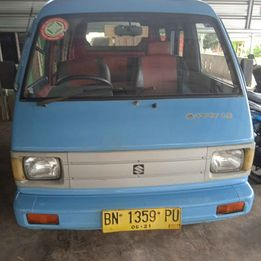plate: (100, 207, 184, 232)
